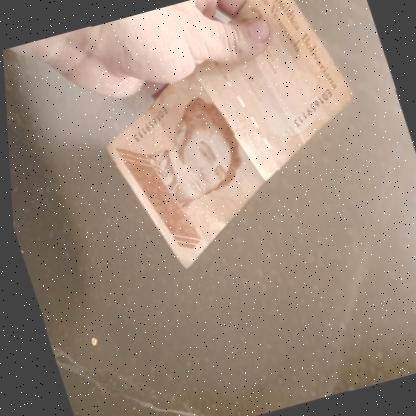twenty-front-vef: (65, 0, 393, 278)
